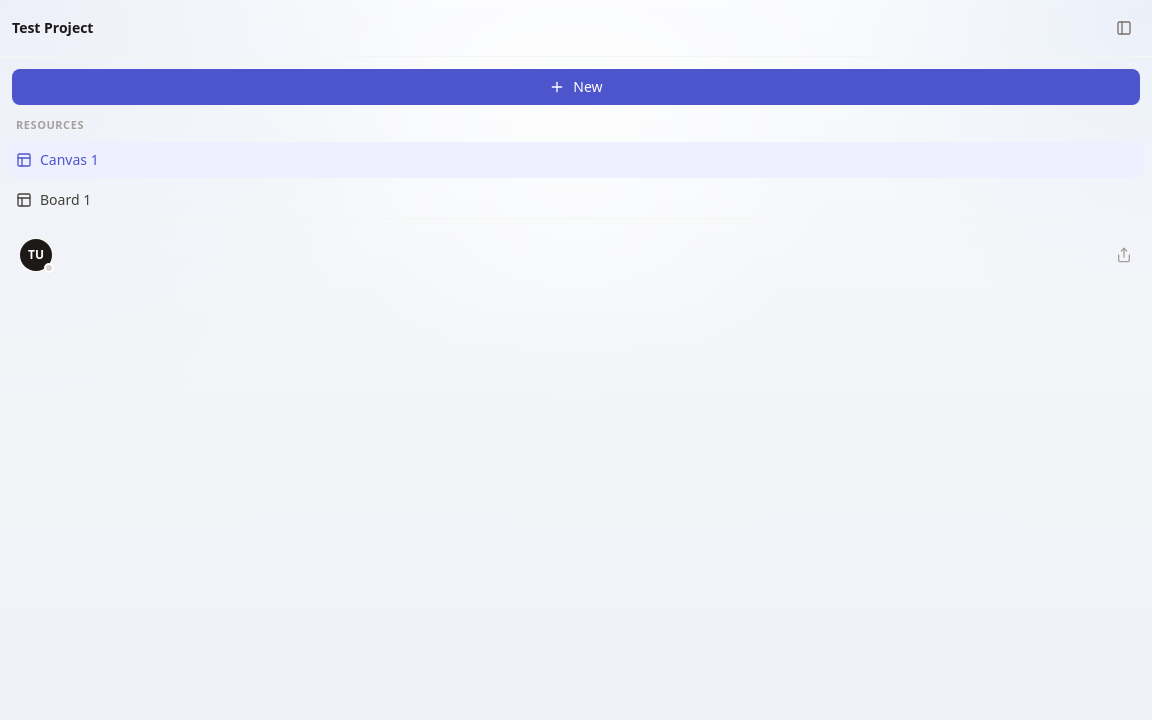
Scenario: LeftSidebar › share/session controls › shows start session button when no room link
This screenshot has width=1152, height=720.
Click the button "TU": click(36, 254) [12, 230, 1140, 278]
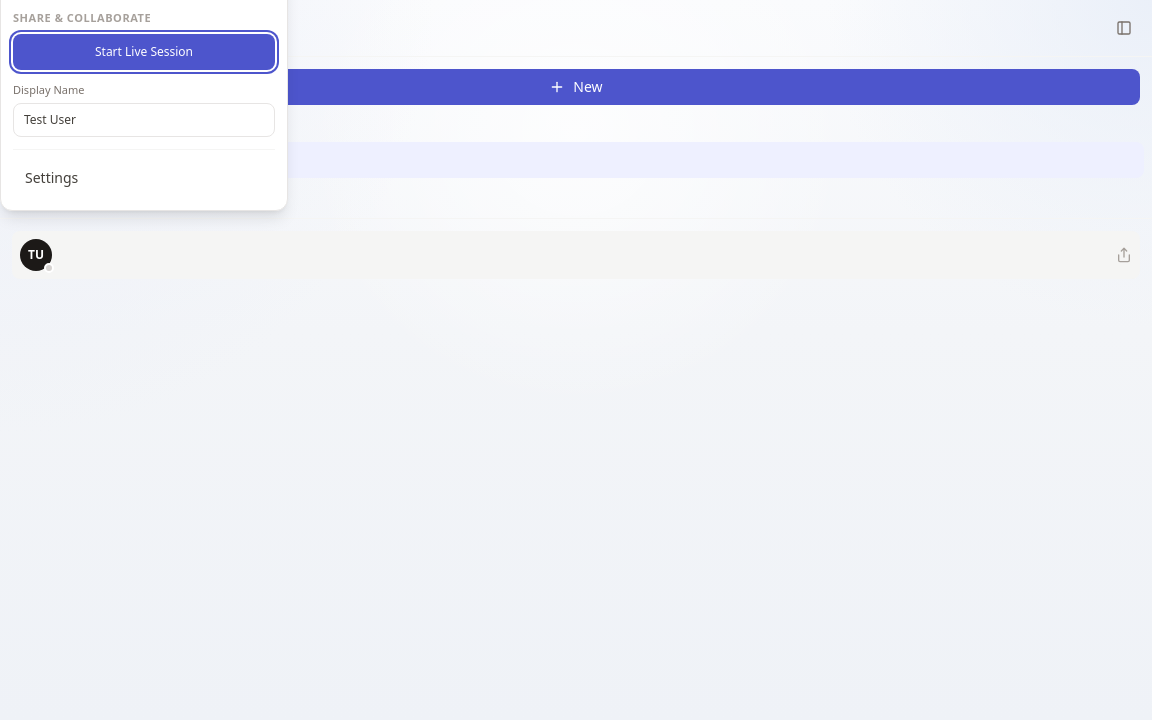
Expected: the text "Start Live Session" is shown, [13, 34, 275, 70]
